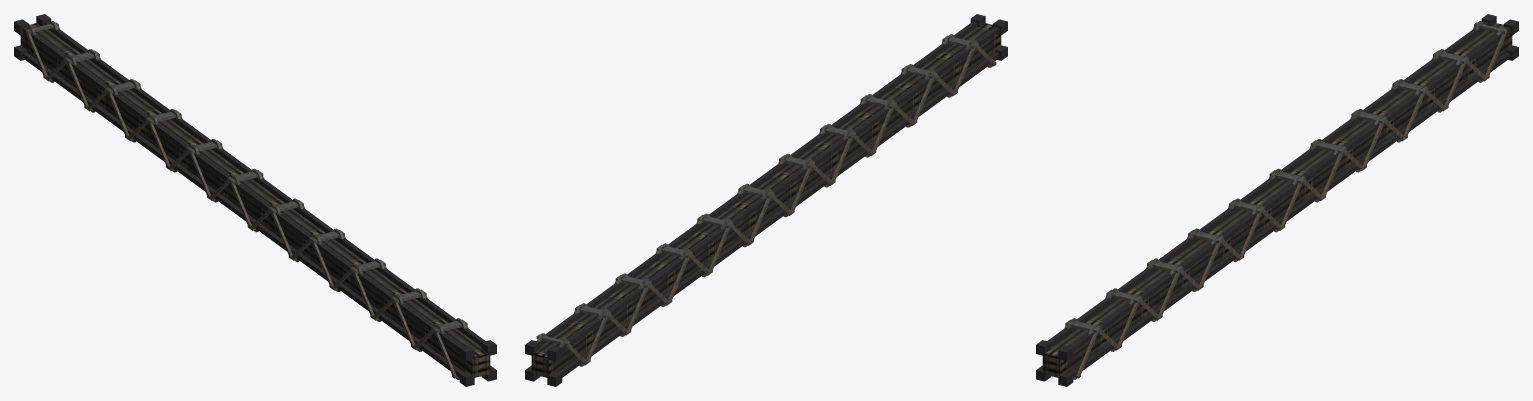
Rendered from zigzag1.fbx.
3 views of the same model, side by side, from view 1: azimuth 30°, elevation 25°; view 2: azimuth 150°, elevation 25°; view 3: azimuth 330°, elevation 25° (orthographic).
Visible parts, largest first — view 1: Object; view 2: Object; view 3: Object.
Part boxes in pixels (left/top/right/bottom): Object: left=14, top=14, right=496, bottom=386; Object: left=525, top=14, right=1007, bottom=386; Object: left=1036, top=14, right=1518, bottom=386.
Size of the model in its own units: 350 by 425 by 8850.
